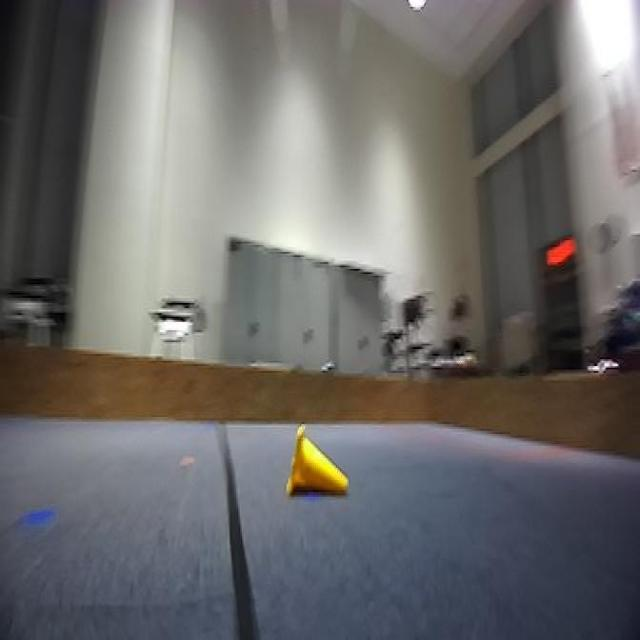frc_cone: (284, 420, 348, 508)
